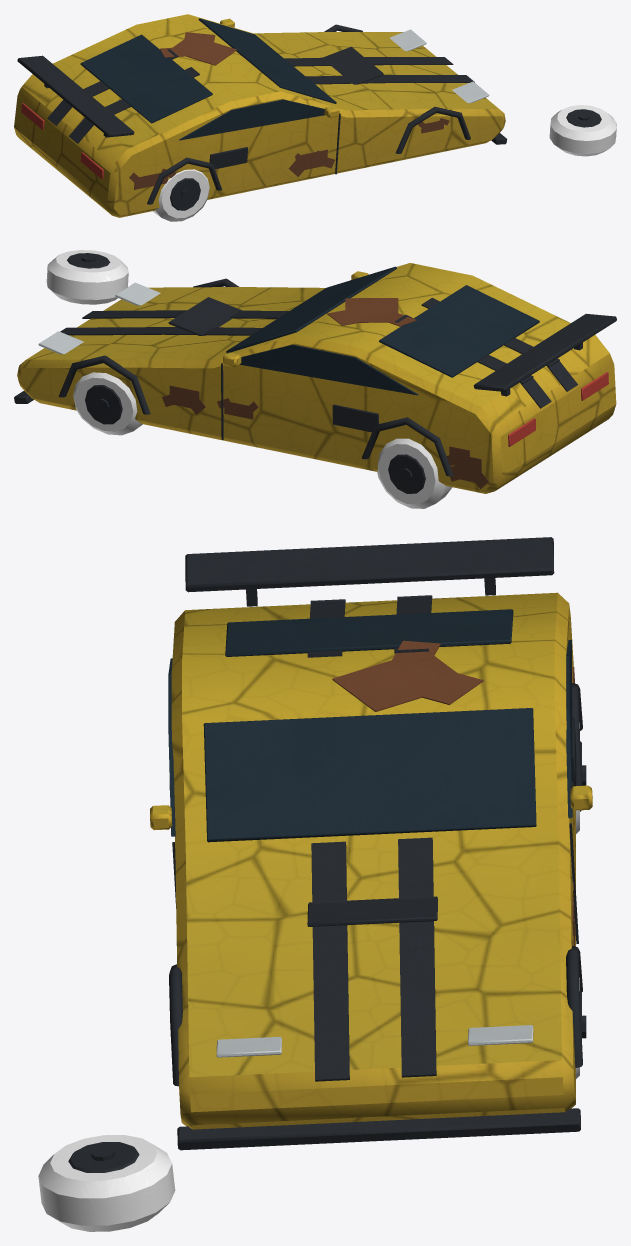
File: sports_car_wreck.glb
3 views of the same model, one above another, from view 1: azimuth 30°, elevation 25°; view 2: azimuth 150°, elevation 25°; view 3: azimuth 270°, elevation 25° (orthographic). The views are drawn at different scales.
Visible parts, largest first — view 1: sports_car_wreck; view 2: sports_car_wreck; view 3: sports_car_wreck.
Boxes of the visible parts, bbox=[...] form: sports_car_wreck: bbox=[14, 14, 616, 221]; sports_car_wreck: bbox=[14, 250, 616, 508]; sports_car_wreck: bbox=[38, 537, 592, 1231].
Bounding box in the file's own units: 5.16 × 1.24 × 2.55.
Materials: 11 (11 with a texture image).
